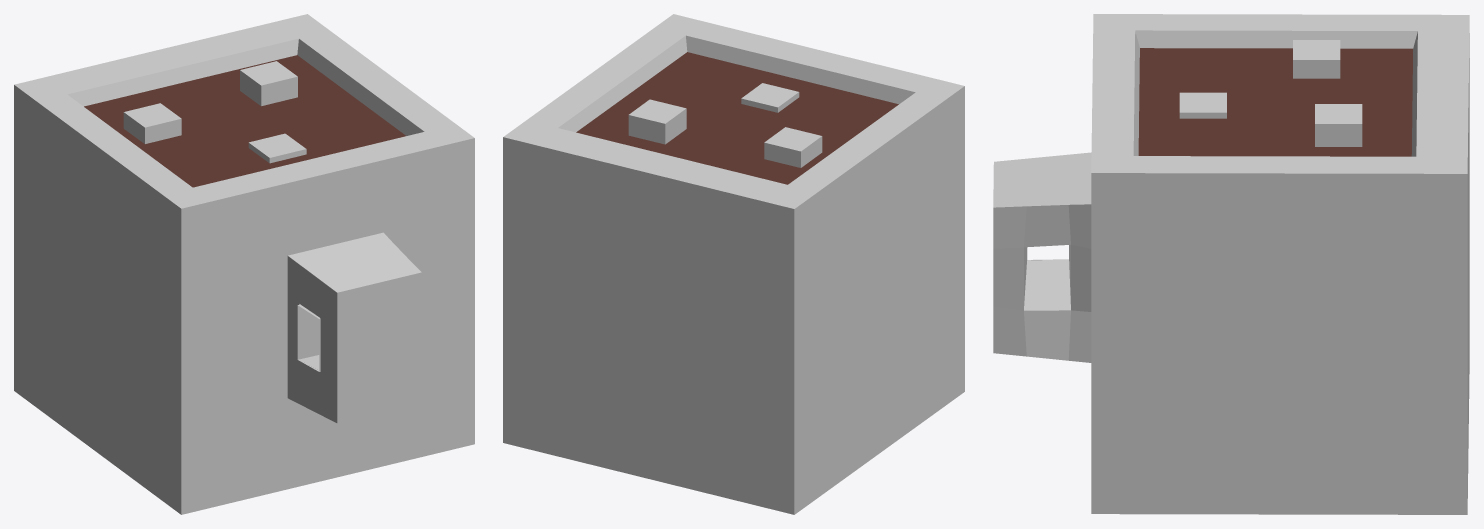
Rendered from coffee.glb.
3 views of the same model, side by side, from view 1: azimuth 30°, elevation 25°; view 2: azimuth 150°, elevation 25°; view 3: azimuth 270°, elevation 25° (orthographic). The views are drawn at different scales.
Parts seen in each view (by area): view 1: Cube, Cube.001, Cube.003, Cube.002, Cube.004; view 2: Cube, Cube.001, Cube.003, Cube.002, Cube.004; view 3: Cube, Cube.001, Cube.003, Cube.002, Cube.004.
Boxes of the visible parts, box(x1,y1,x2,y2) form: Cube: box(14, 14, 474, 514); Cube.001: box(84, 55, 405, 187); Cube.003: box(240, 61, 297, 106); Cube.002: box(123, 103, 181, 143); Cube.004: box(248, 133, 306, 163); Cube: box(503, 14, 964, 514); Cube.001: box(576, 52, 898, 184); Cube.003: box(628, 99, 686, 144); Cube.002: box(764, 127, 822, 167); Cube.004: box(741, 83, 799, 112); Cube: box(993, 14, 1469, 514); Cube.001: box(1138, 48, 1412, 156); Cube.003: box(1315, 104, 1362, 146); Cube.002: box(1293, 40, 1340, 78); Cube.004: box(1179, 92, 1226, 118).
Bounding box in the file's own units: 0.358 × 0.3637 × 0.4507.
